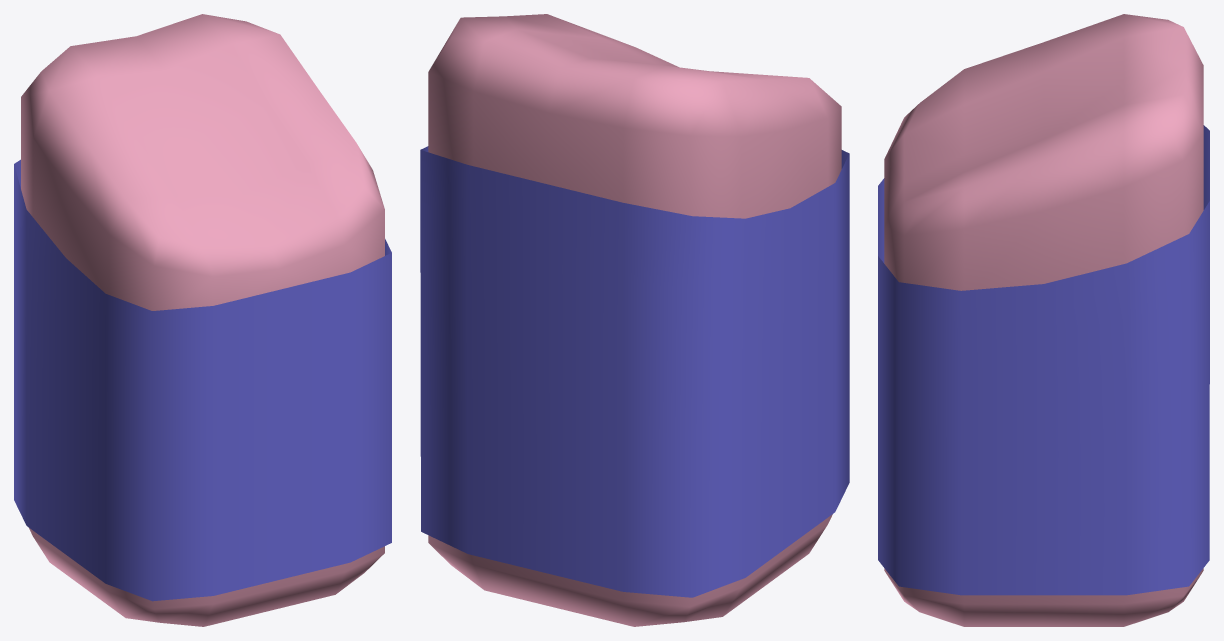
The model's file is Eraser textured.fbx.
The picture shows the model from 3 angles, left to right: view 1: azimuth 30°, elevation 25°; view 2: azimuth 150°, elevation 25°; view 3: azimuth 270°, elevation 25°; orthographic projection. The views are drawn at different scales.
Parts seen in each view (by area): view 1: polySurface1; view 2: polySurface1; view 3: polySurface1.
Boxes of the visible parts, box(x1,y1,x2,y2) form: polySurface1: box(14, 14, 391, 626); polySurface1: box(420, 14, 849, 626); polySurface1: box(878, 14, 1209, 626).
Size of the model in its own units: 45.4 by 78.13 by 45.4.
